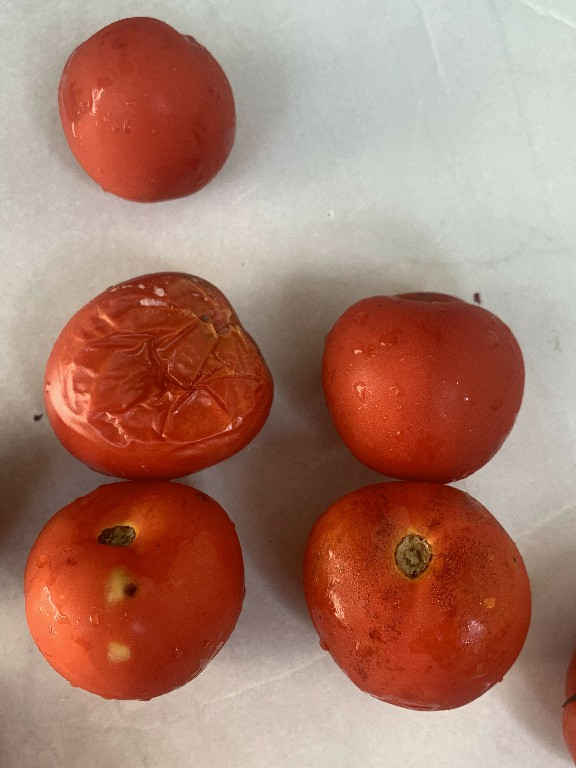NG: (33, 254, 291, 480), (300, 485, 540, 722), (22, 480, 264, 704)
OK: (322, 272, 534, 482), (43, 12, 254, 207)
